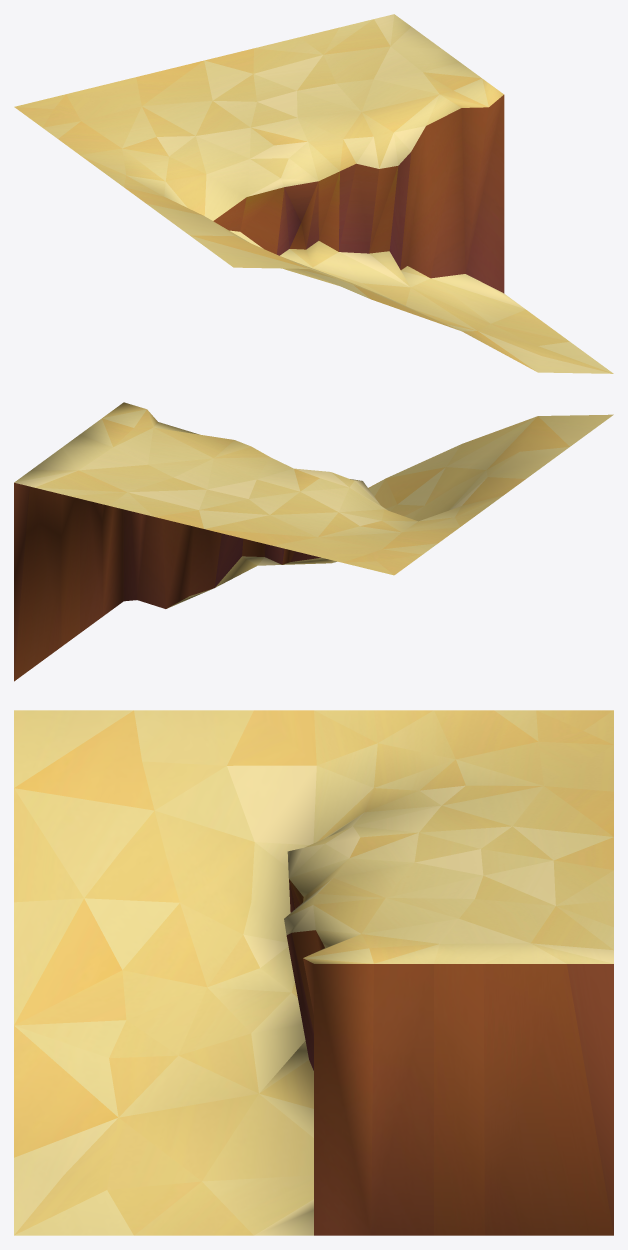
File: GL-Terrain-part-17.fbx
3 renders of one model, top to bottom at view 1: azimuth 30°, elevation 25°; view 2: azimuth 150°, elevation 25°; view 3: azimuth 270°, elevation 25°, orthographic. The views are drawn at different scales.
Parts seen in each view (by area): view 1: GL-Terrain-part-17; view 2: GL-Terrain-part-17; view 3: GL-Terrain-part-17.
Part boxes in pixels (<box>): GL-Terrain-part-17: <box>14,14,613,373</box>; GL-Terrain-part-17: <box>14,402,613,681</box>; GL-Terrain-part-17: <box>14,710,613,1235</box>.
Size of the model in its own units: 6 by 3 by 6.
